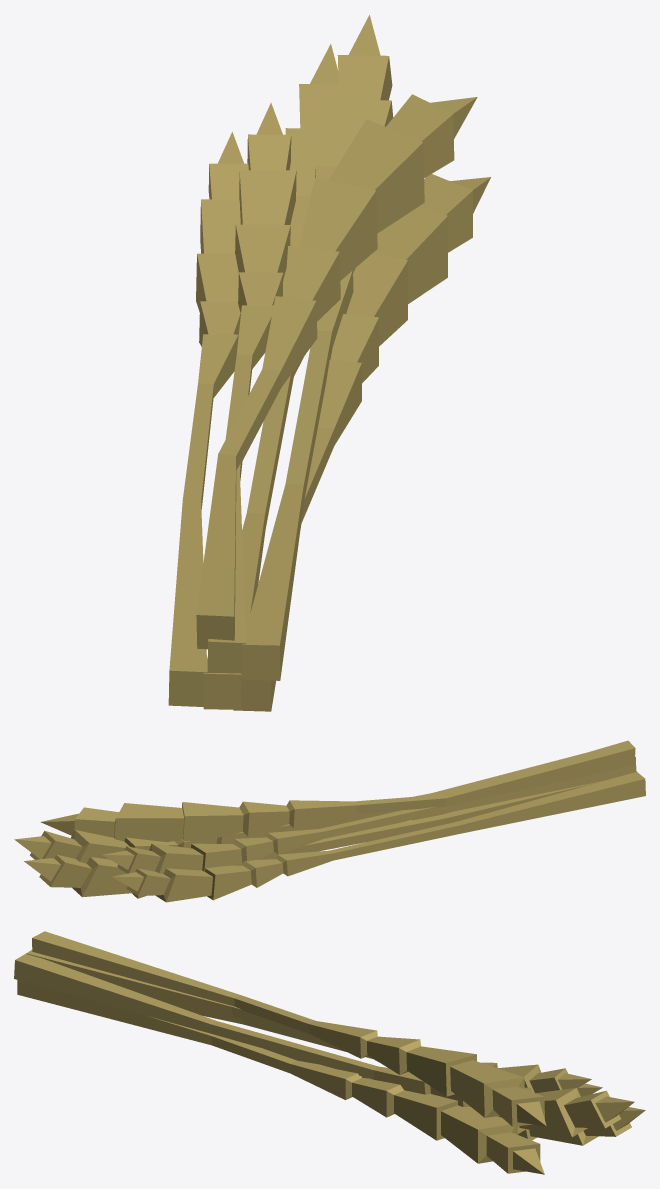
File: wheat_crop.glb
The picture shows the model from 3 angles, top to bottom: view 1: azimuth 30°, elevation 25°; view 2: azimuth 150°, elevation 25°; view 3: azimuth 270°, elevation 25°; orthographic projection. The views are drawn at different scales.
Parts seen in each view (by area): view 1: Wheat_Crop; view 2: Wheat_Crop; view 3: Wheat_Crop.
Boxes of the visible parts, x1=… form: Wheat_Crop: x1=168, y1=15, x2=490, y2=711; Wheat_Crop: x1=14, y1=740, x2=645, y2=902; Wheat_Crop: x1=14, y1=931, x2=645, y2=1174.
Bounding box in the file's own units: 0.5906 × 0.1048 × 0.7584.
